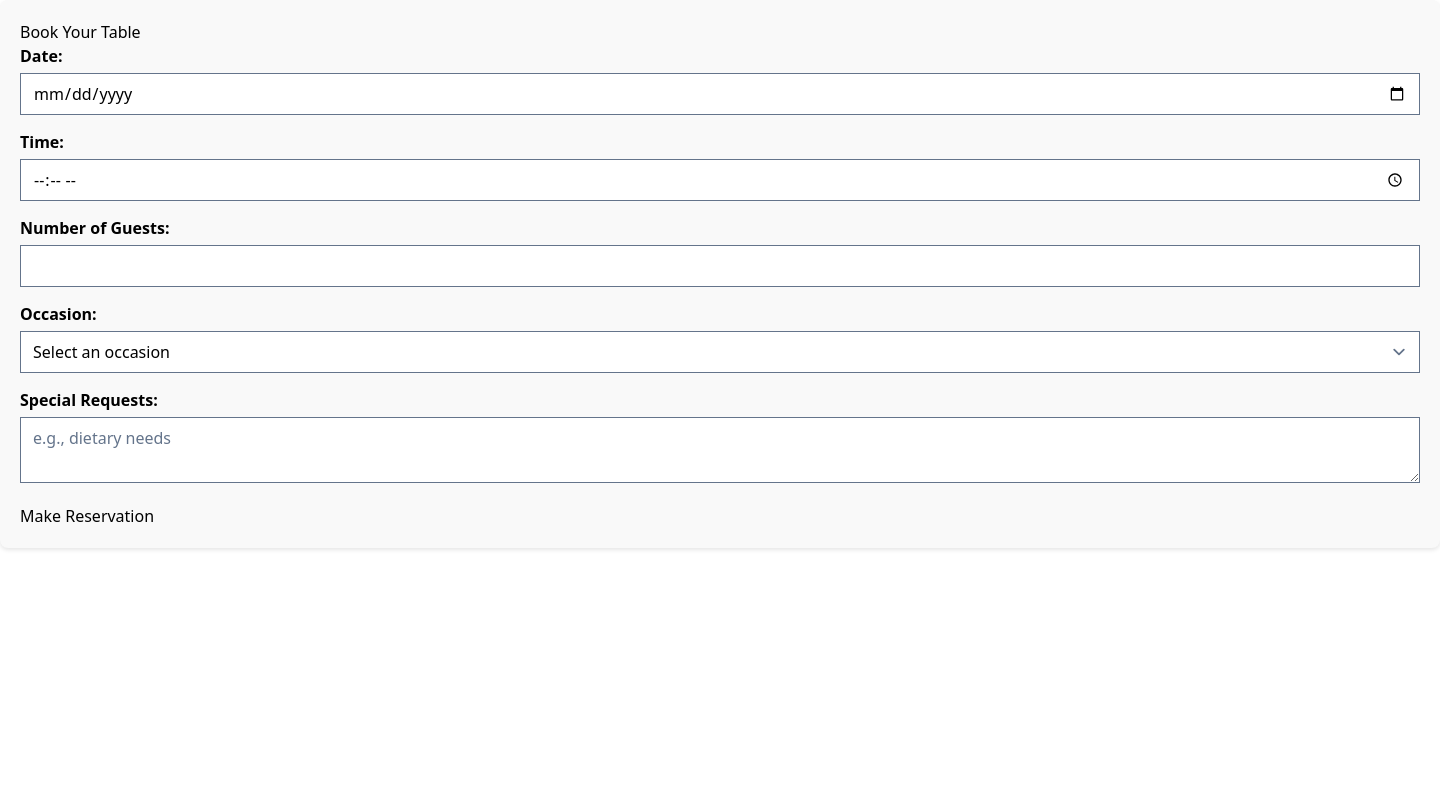
Test: shows error for invalid guests
Type "0" into the number field labelled "Number of Guests:" at coordinates (720, 266), box x1=20 y1=245 x2=1420 y2=287
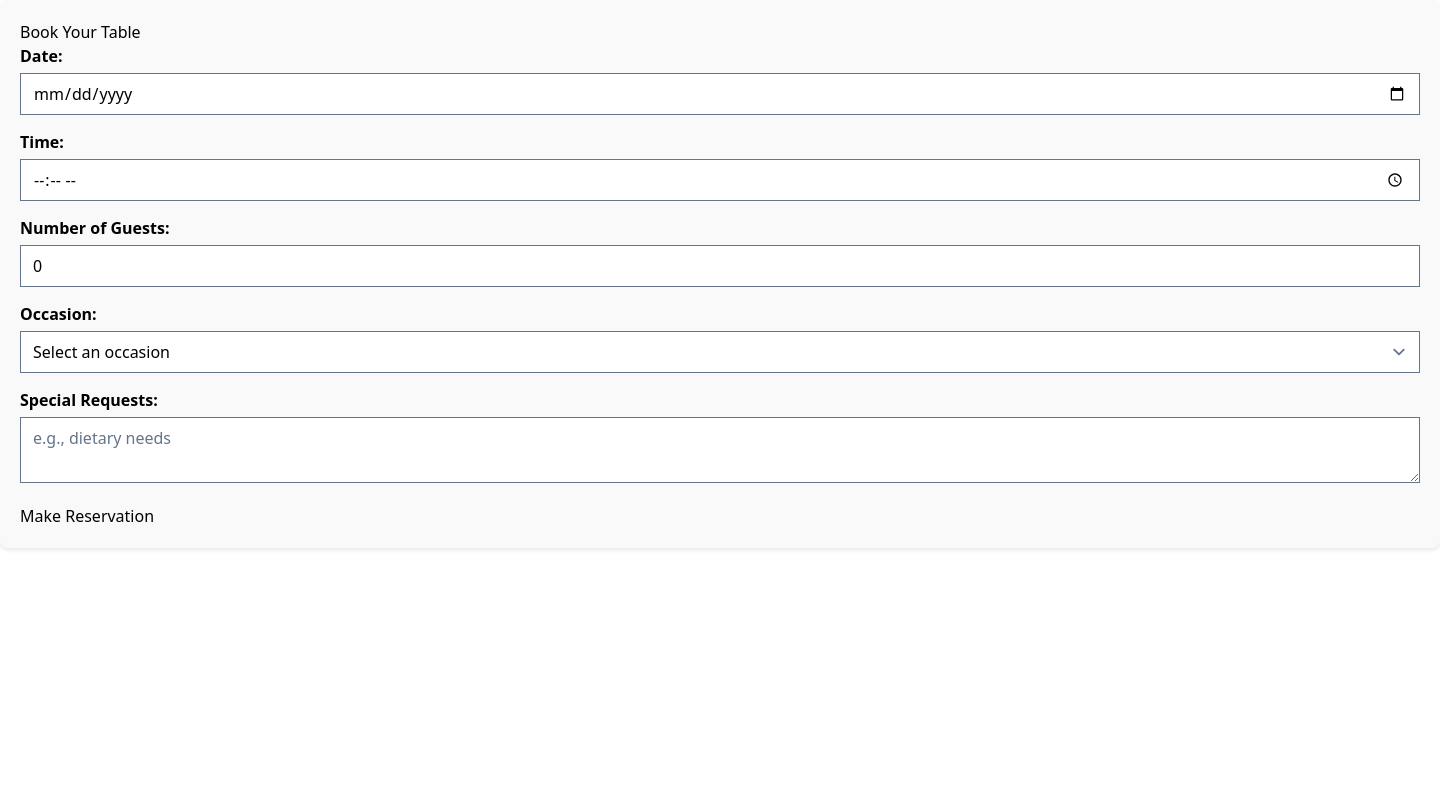
Click the button "Make Reservation" at coordinates (87, 516), box x1=20 y1=504 x2=154 y2=528
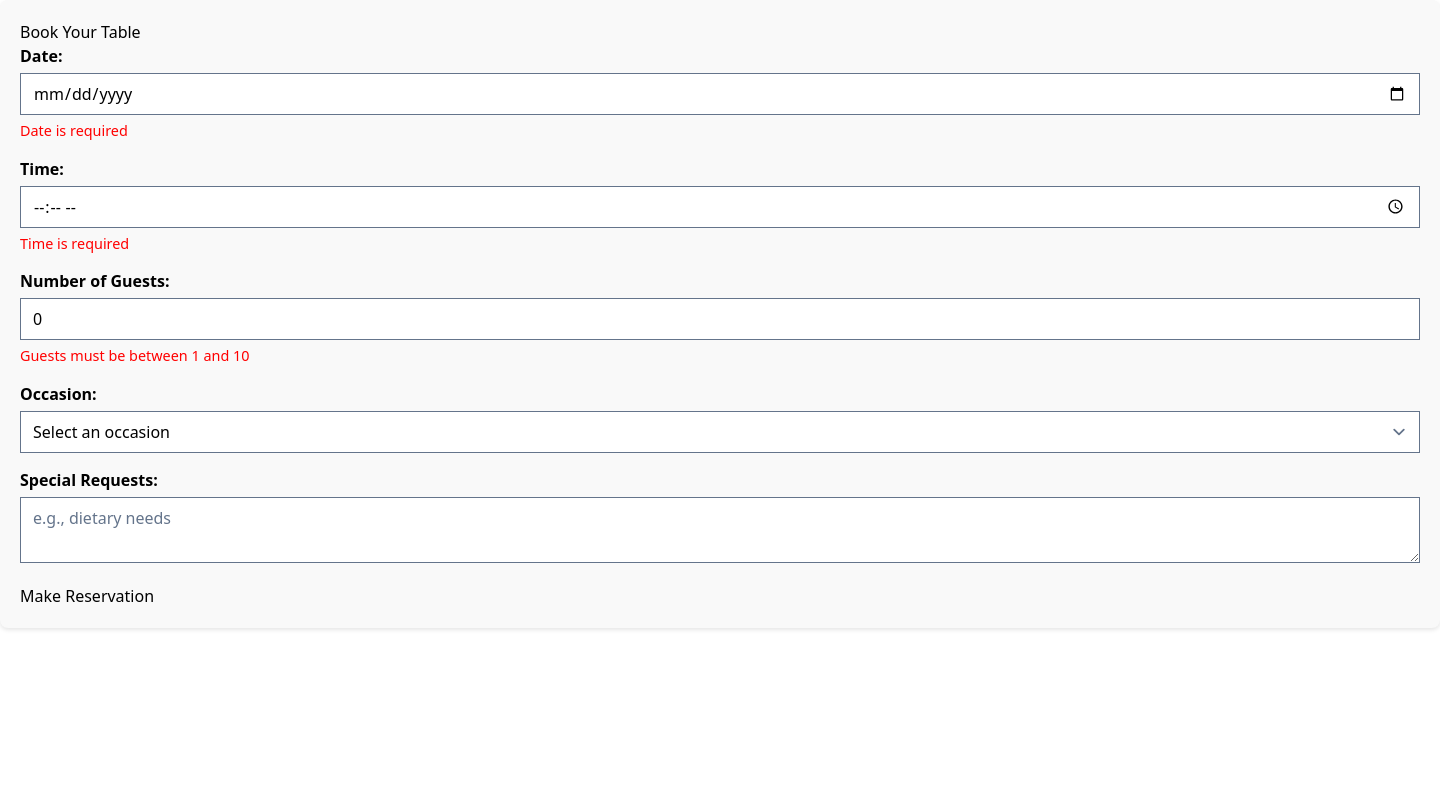
Expected: the text "Guests must be between 1 and 10" is shown, x1=20 y1=346 x2=249 y2=365
